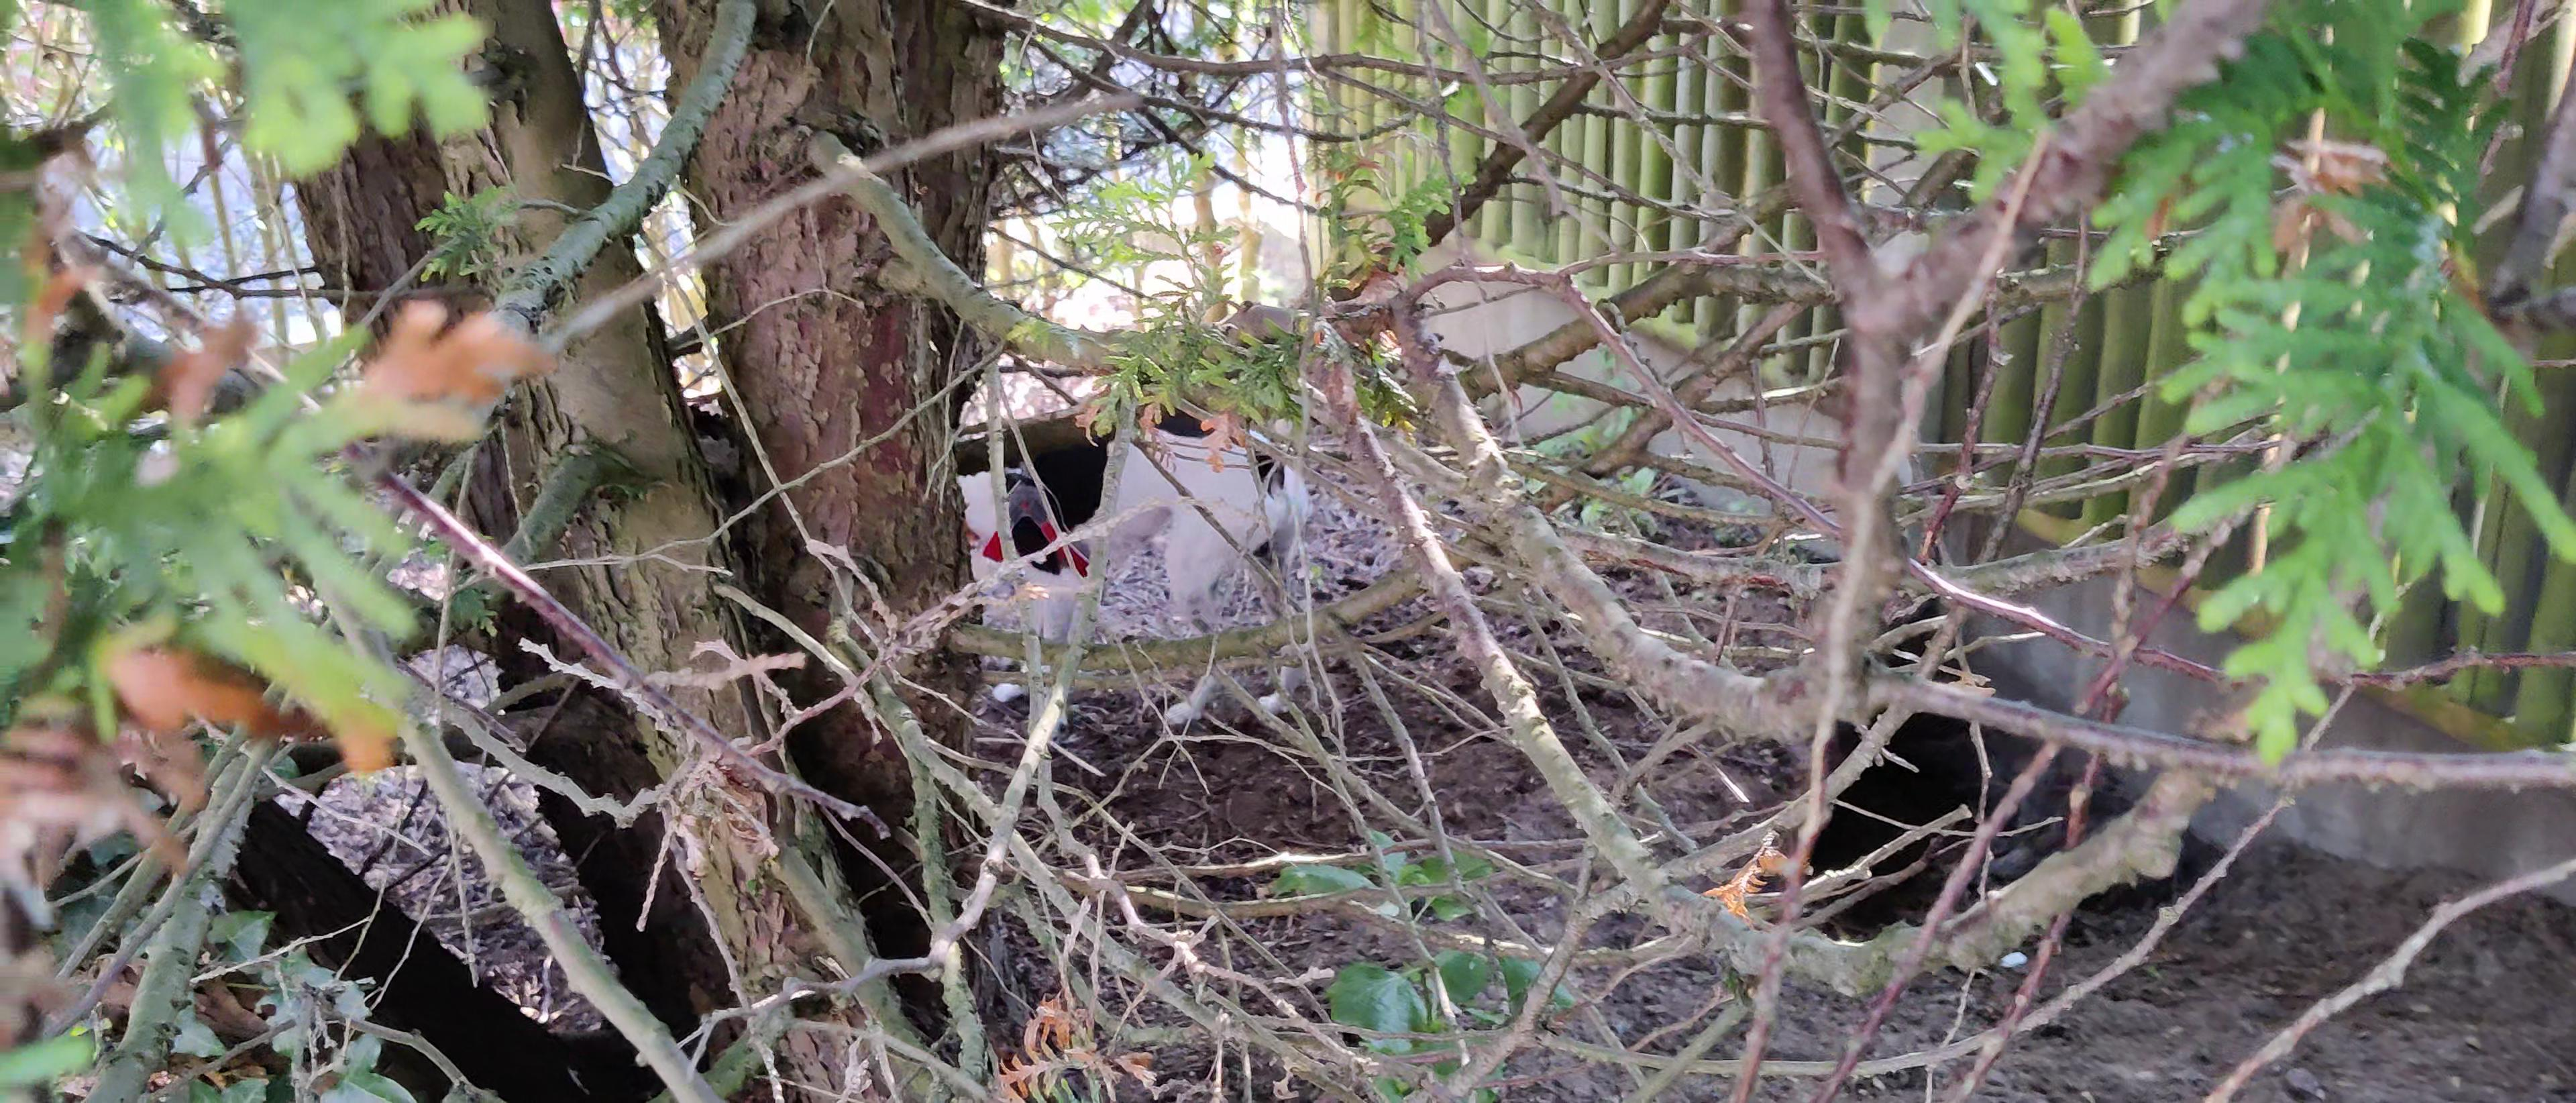Dog: (948, 339, 1321, 741)
